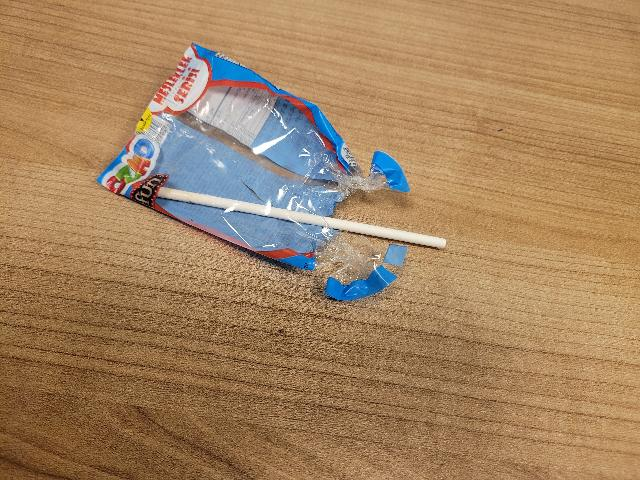Plastik: (90, 36, 454, 306)
